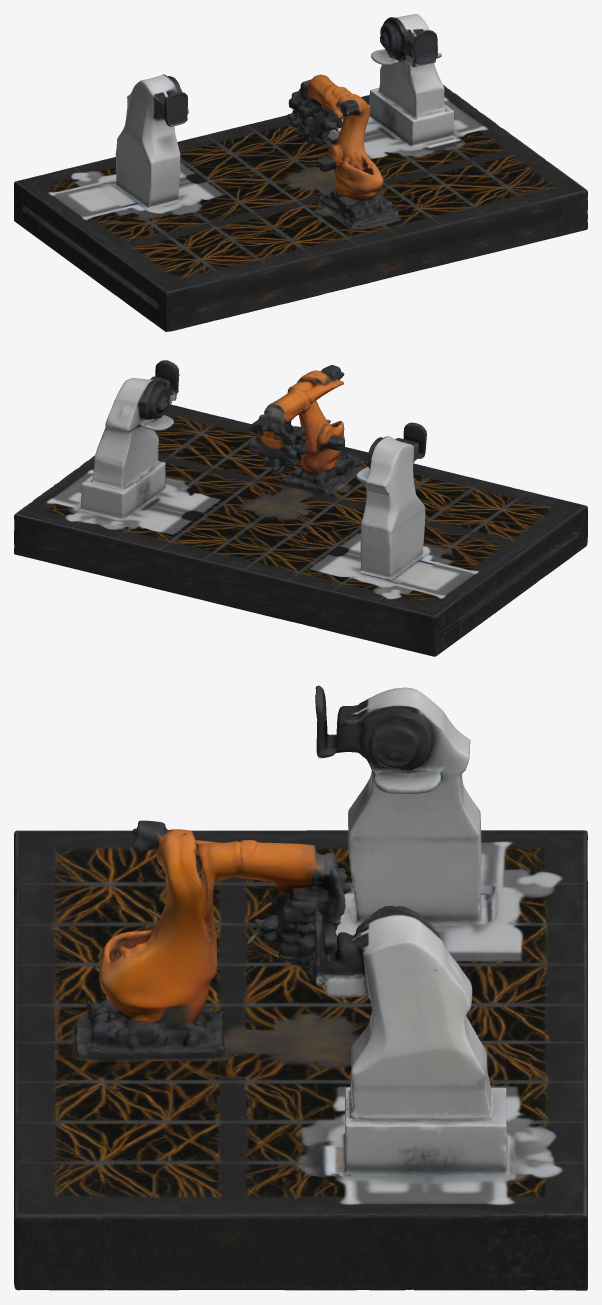
The model's file is Meshy_AI_Industrial_Robotic_Ar_0429091450_texture.glb.
The picture shows the model from 3 angles, top to bottom: view 1: azimuth 30°, elevation 25°; view 2: azimuth 150°, elevation 25°; view 3: azimuth 270°, elevation 25°; orthographic projection. The views are drawn at different scales.
Size of the model in its own units: 2 by 0.7303 by 1.25.
1 material, 1 textured.
